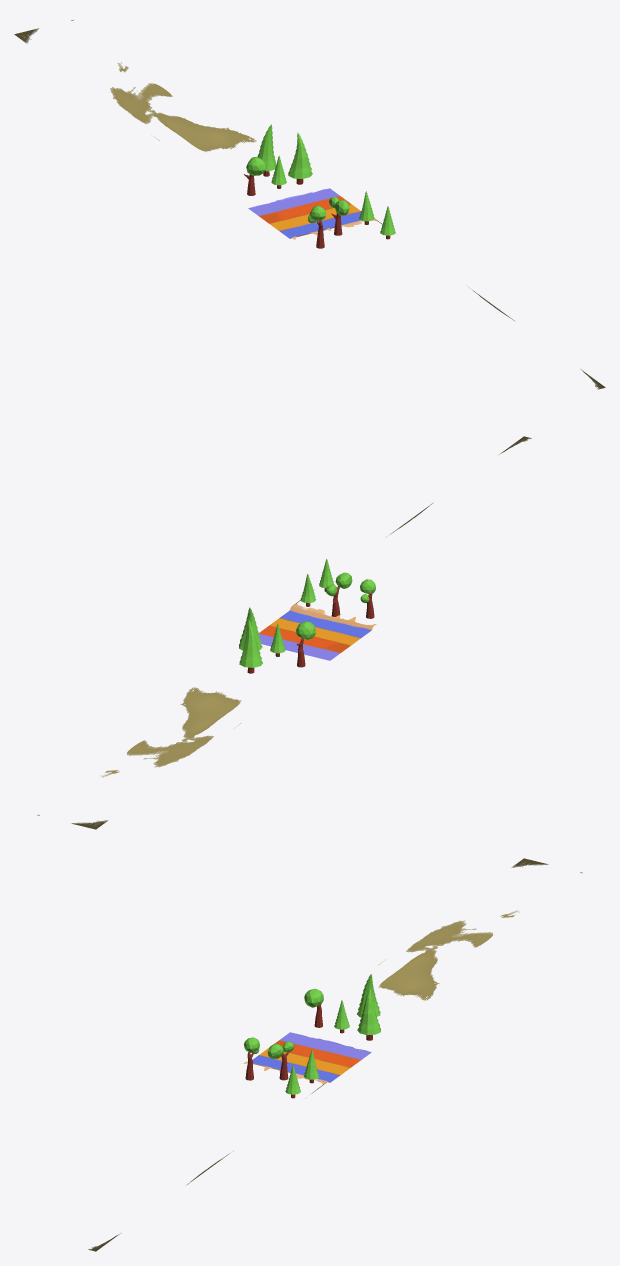
Rendered from forestPart3To1.fbx.
The picture shows the model from 3 angles, top to bottom: view 1: azimuth 30°, elevation 25°; view 2: azimuth 150°, elevation 25°; view 3: azimuth 330°, elevation 25°; orthographic projection.
Visible parts, largest first — view 1: foretPart3To1; view 2: foretPart3To1; view 3: foretPart3To1.
Part boxes in pixels (x1,y1,x2,y2): foretPart3To1: (14,19,605,389); foretPart3To1: (37,436,531,829); foretPart3To1: (88,858,582,1251).
Bounding box in the file's own units: 1675 × 1004 × 18053.
